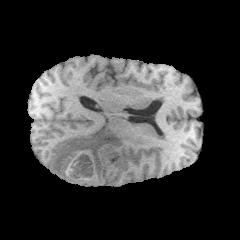glioma: (51, 125, 127, 185)
